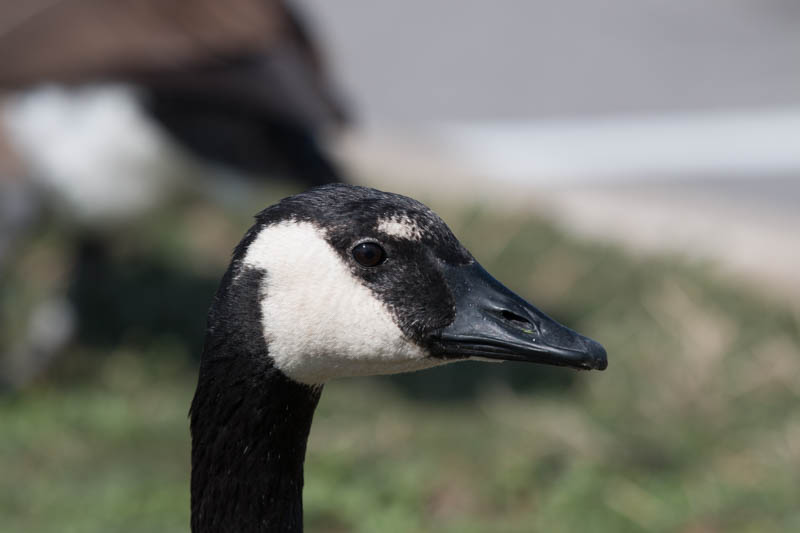goose-head: (206, 183, 609, 395)
